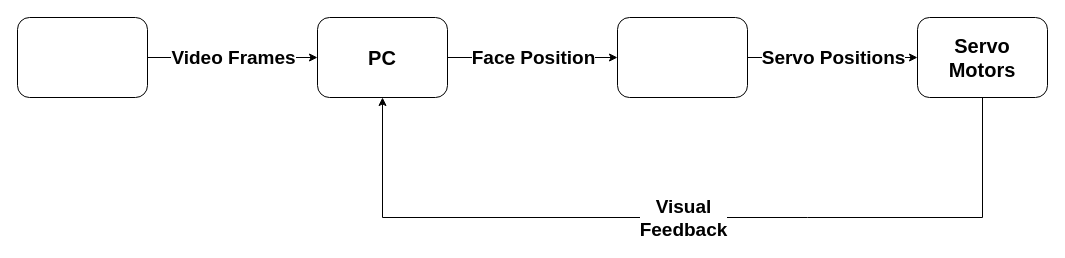
The diagram is 1065 pixels wide and 258 high, and some of its shapes have lost their labels. Each missing label, with the centre of its shape:
"Arduino" goes at (x=682, y=57).
"Camera" goes at (x=82, y=57).
